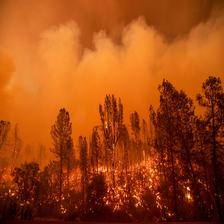fire: (40, 158, 203, 216)
